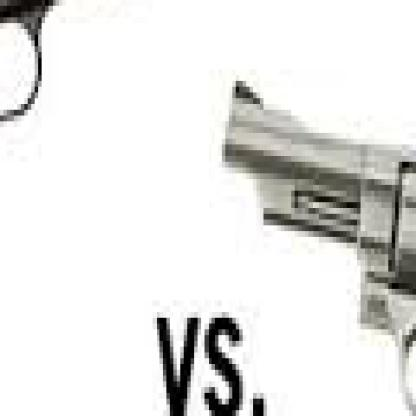gun: (0, 0, 246, 387), (229, 58, 412, 410)
